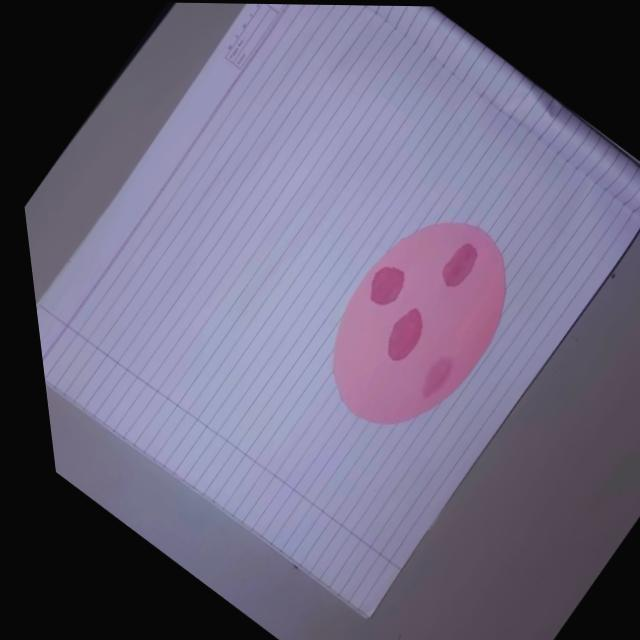BlueColor: (387, 308, 422, 360), (442, 243, 477, 287), (370, 267, 404, 305), (421, 357, 452, 398)
